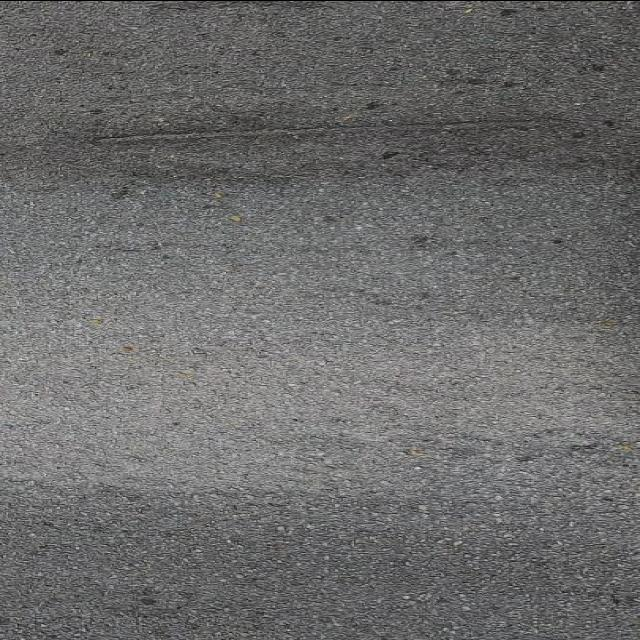cracks: (72, 110, 566, 152)
